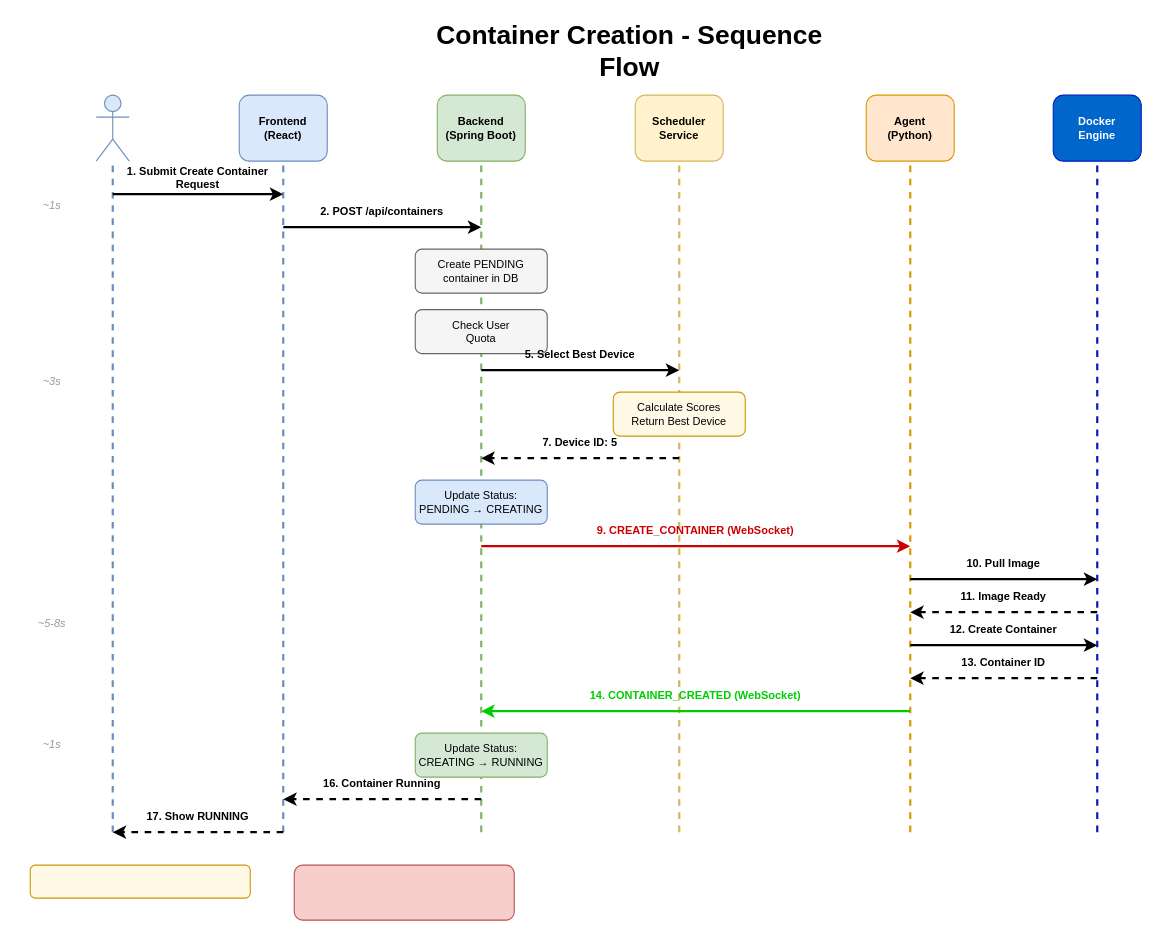
This 1161x939 diagram has some shape labels left out. The centre of each missing label's shape, as x and y in pixels:
"Student (Browser)" belongs at (112,127).
"⏱ Total Time: 10-13 seconds" belongs at (139,881).
"⚠️ Note: Status changes only after agent confirmation (AWS-style)" belongs at (403,892).
